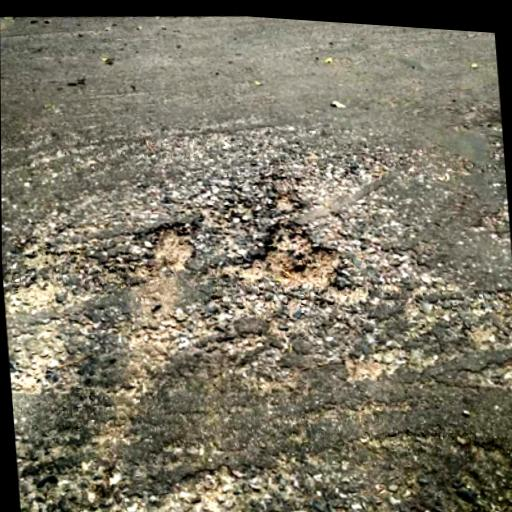pothole: (238, 214, 351, 295), (148, 221, 201, 274)
